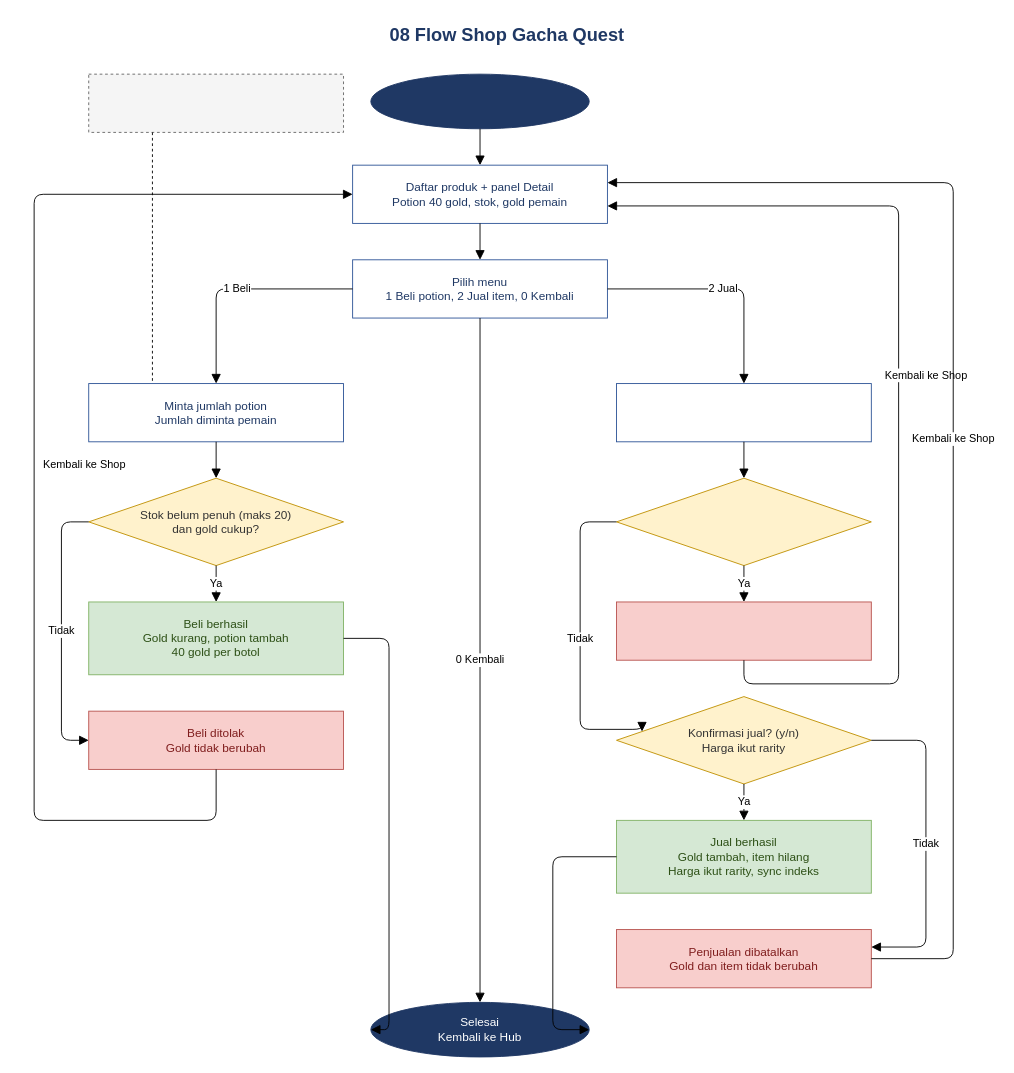
Some shapes in this 1014 by 1073 pixel diagram are drawn without their labels. The box of each missing label's shape, as (x1, y1, x2, y2) in pixels:
Catatan: potion heal 50 HP, cap maxHp. Dipakai di battle, bukan di shop.: (88, 73, 344, 132)
Item terpasang? weaponIndex / armorIndex: (616, 477, 871, 566)
Layar Jual Item Warna rarity, terpasang ditandai: (616, 383, 871, 442)
Mulai Shop dari Hub 4 (shopMenu): (370, 73, 589, 129)
Tidak bisa dijual Item sedang terpasang: (616, 601, 871, 660)
